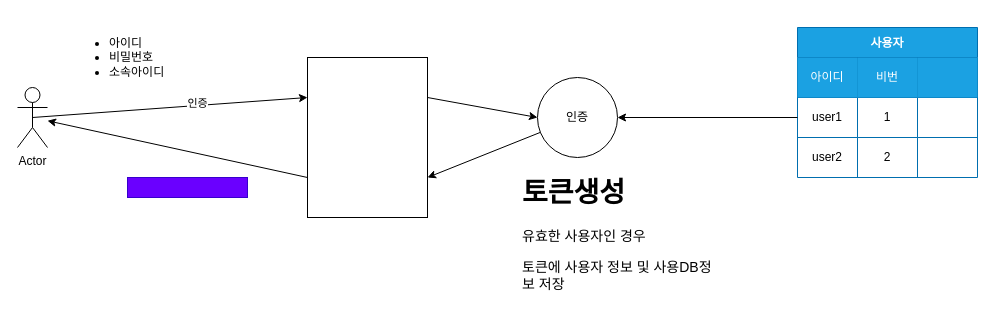
Some shapes in this 995 by 324 pixel diagram are drawn without their labels. Here are the shapes that lost their labels. From the top down, the centre of each, then its label:
point (367, 137): 웹서비스
point (187, 187): 토큰
